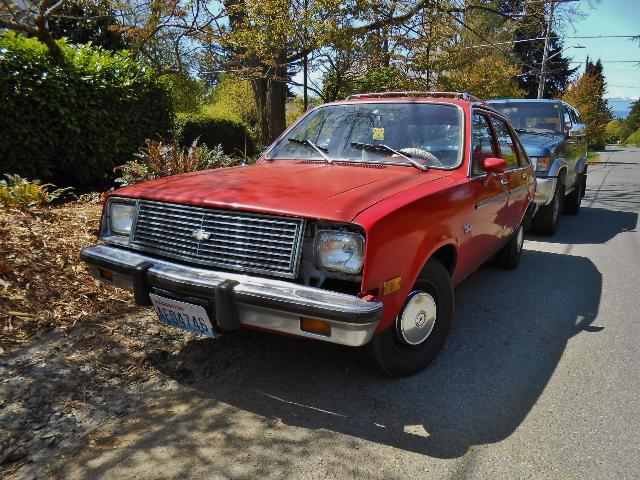chevette-1983: (82, 92, 542, 377)
